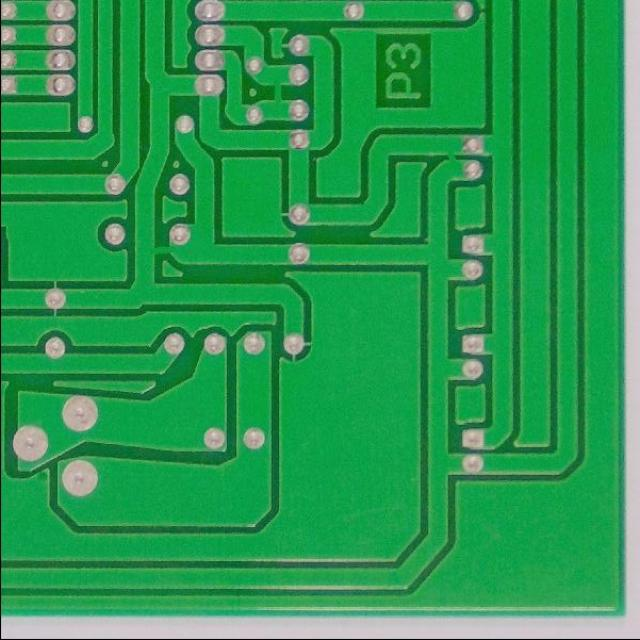short: (139, 226, 195, 280), (433, 134, 476, 178), (258, 72, 300, 113)
